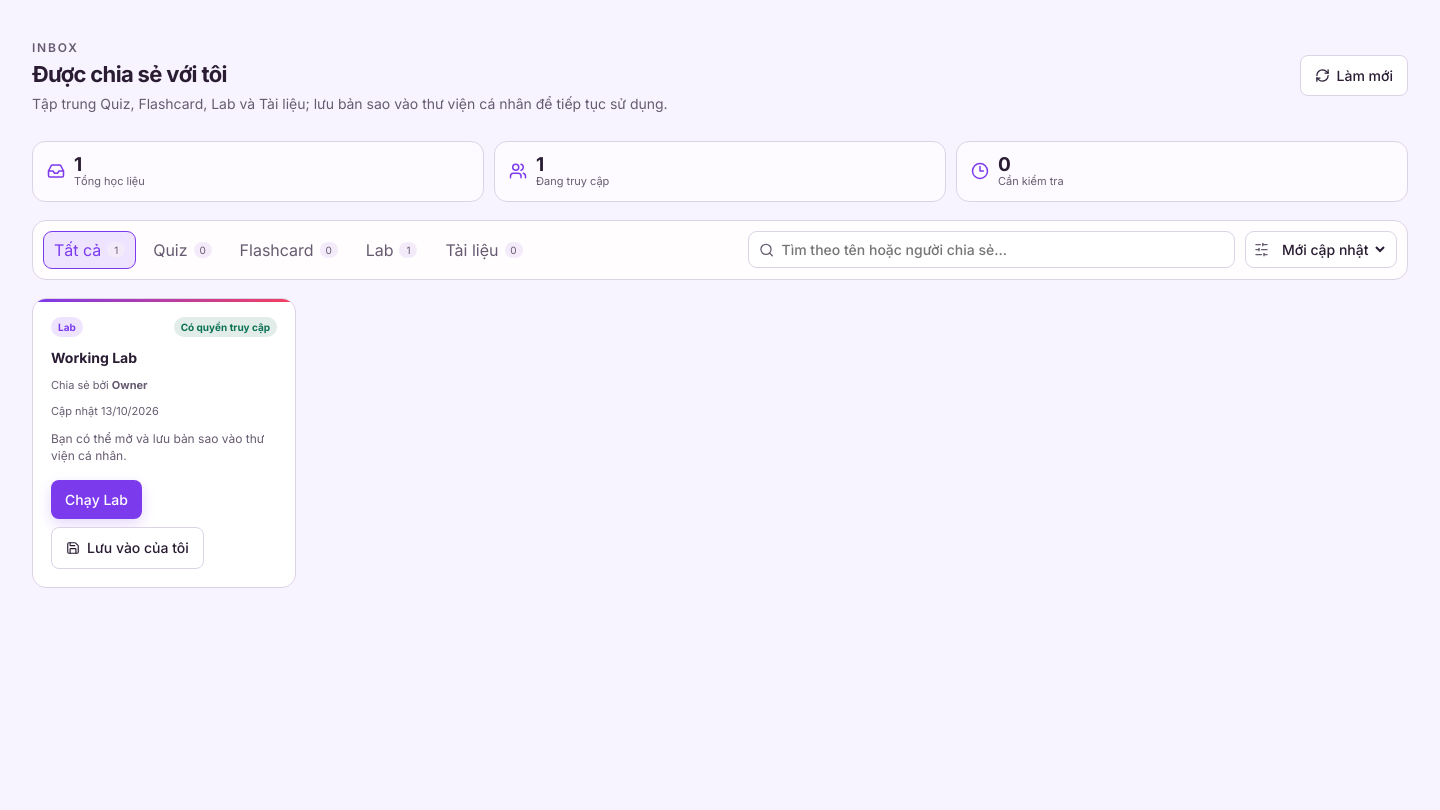
it: keeps the list and reports revoked access when opening a resource
What coordinates should you click on to do the following:
click the button "Chạy Lab"
I would click on:
 (96, 500)
Its box is x1=51 y1=480 x2=142 y2=519.
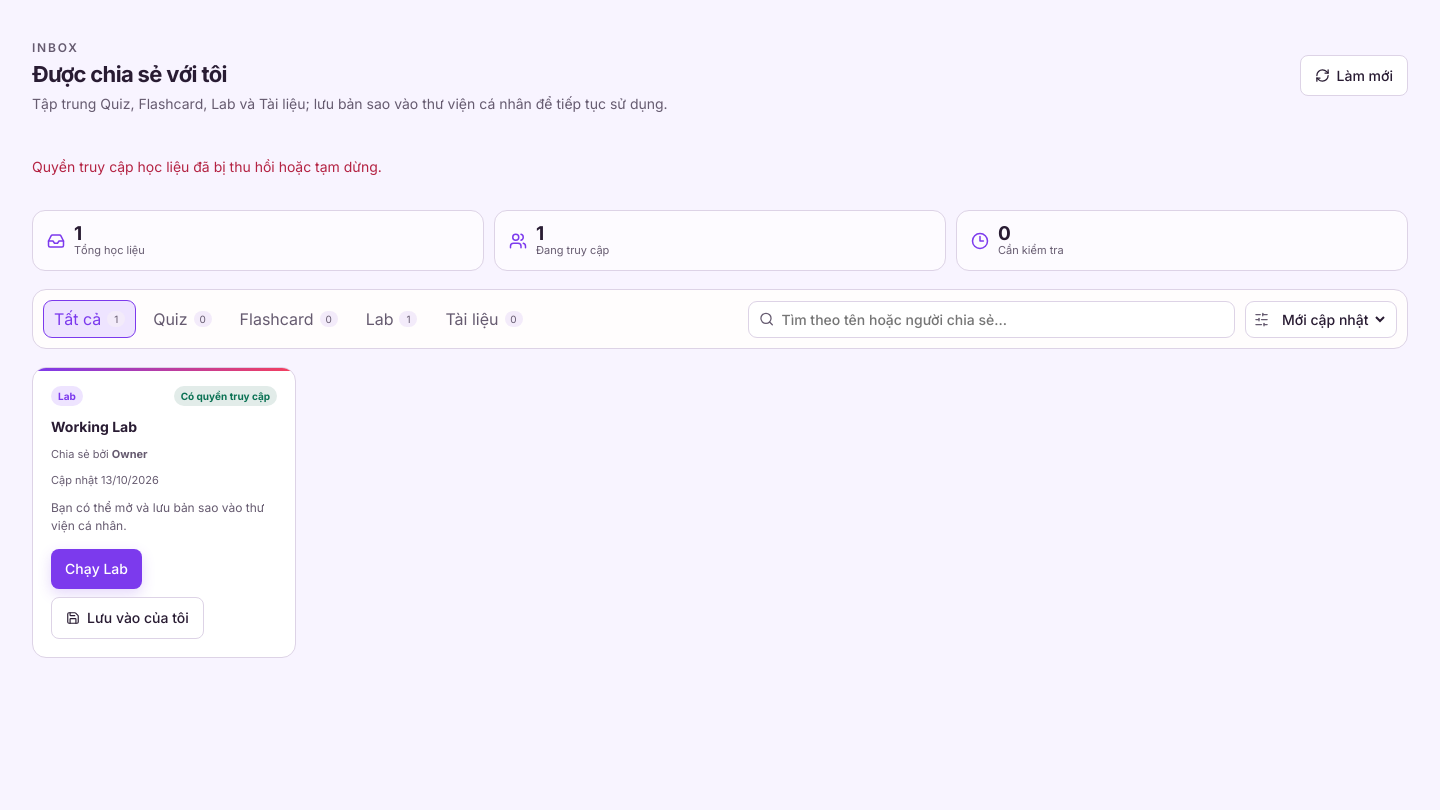
Expected: the text "Working Lab" is shown, x1=51 y1=418 x2=137 y2=436
Expected: the message "Quyền truy cập học liệu đã bị thu hồi hoặc tạm dừng." is shown, x1=32 y1=158 x2=382 y2=175
